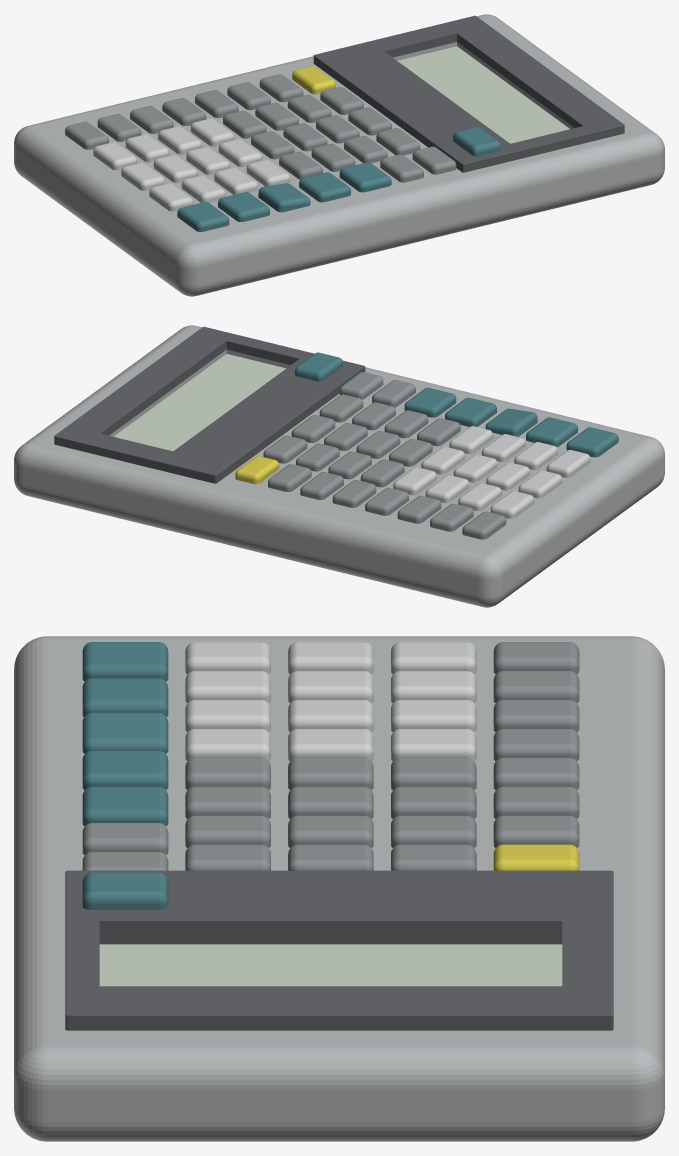
Rendered from Calculadora.glb.
The picture shows the model from 3 angles, top to bottom: view 1: azimuth 30°, elevation 25°; view 2: azimuth 150°, elevation 25°; view 3: azimuth 270°, elevation 25°; orthographic projection. The views are drawn at different scales.
Visible parts, largest first — view 1: Mesh_Mesh_head_geo.001_lambert2SG.001; view 2: Mesh_Mesh_head_geo.001_lambert2SG.001; view 3: Mesh_Mesh_head_geo.001_lambert2SG.001.
Part boxes in pixels (left/top/right/bottom): Mesh_Mesh_head_geo.001_lambert2SG.001: left=14, top=14, right=664, bottom=296; Mesh_Mesh_head_geo.001_lambert2SG.001: left=14, top=325, right=664, bottom=607; Mesh_Mesh_head_geo.001_lambert2SG.001: left=14, top=636, right=664, bottom=1141.
Size of the model in its own units: 60 by 8.11 by 38.01.
